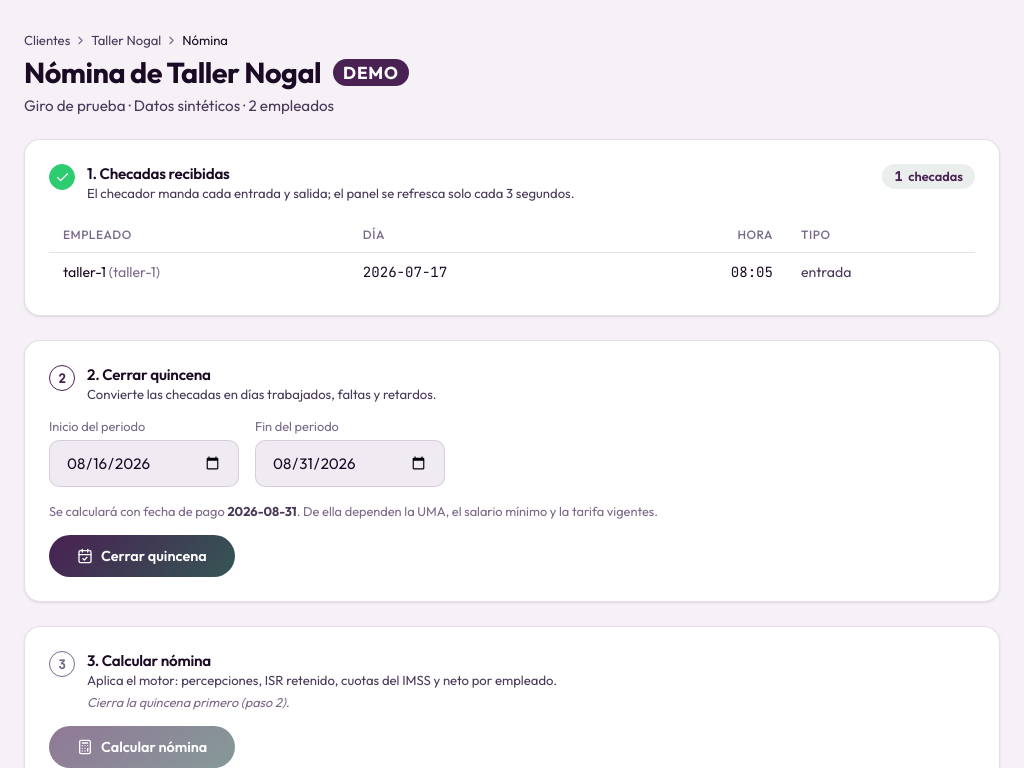
Scenario: panel sin checadas › pregunta también cuando el panel está lleno pero de otra quincena
Expected: the date field showing "2026-08-16" is shown, [49,440,239,487]
Click the button "Cerrar quincena": (142, 556) [49,535,235,577]
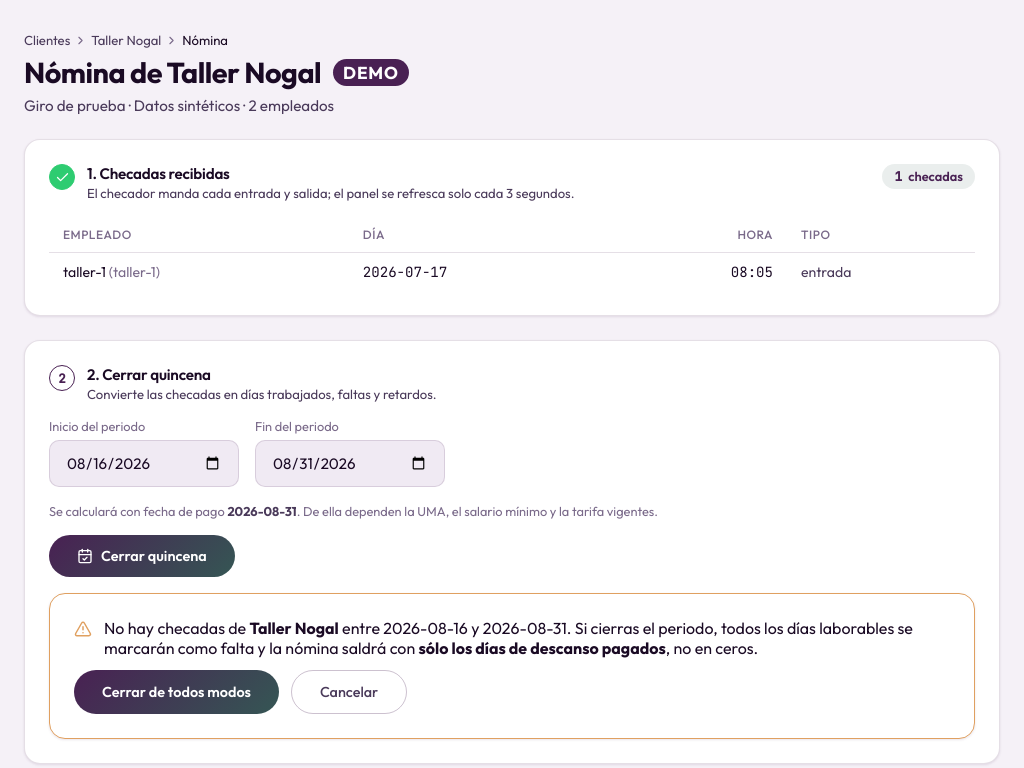
Expected: the dialog is shown, [49,593,975,739]
